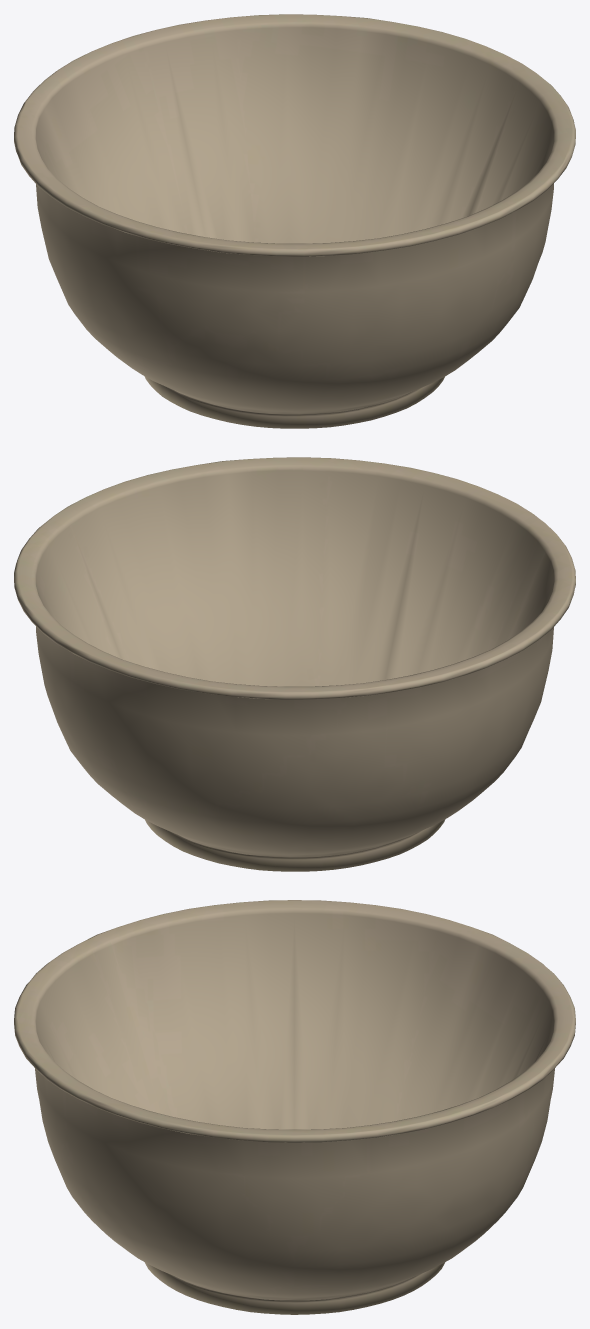
3 renders of one model, top to bottom at view 1: azimuth 30°, elevation 25°; view 2: azimuth 150°, elevation 25°; view 3: azimuth 270°, elevation 25°, orthographic.
Visible parts, largest first — view 1: Hot Pot Bowl; view 2: Hot Pot Bowl; view 3: Hot Pot Bowl.
Part boxes in pixels (x1,y1,x2,y2): Hot Pot Bowl: [14, 14, 575, 428]; Hot Pot Bowl: [14, 457, 575, 871]; Hot Pot Bowl: [14, 900, 575, 1314].
Size of the model in its own units: 0.998 by 0.4551 by 0.998.
1 material, 1 textured.
